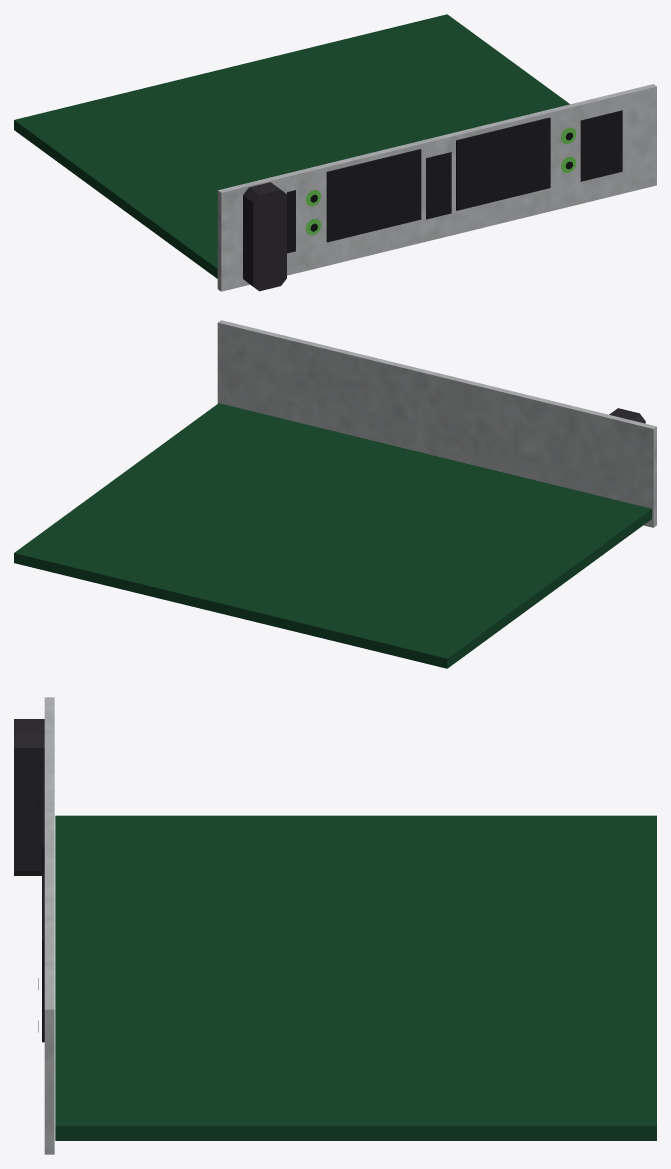
File: BCM957414-N-4140-C.far.glb
3 views of the same model, one above another, from view 1: azimuth 30°, elevation 25°; view 2: azimuth 150°, elevation 25°; view 3: azimuth 270°, elevation 25° (orthographic). The views are drawn at different scales.
Visible parts, largest first — view 1: Card_far; view 2: Card_far; view 3: Card_far.
Boxes of the visible parts, box(x1,y1,x2,y2) form: Card_far: box(14, 14, 656, 291); Card_far: box(14, 320, 656, 668); Card_far: box(14, 697, 656, 1154).
Size of the model in its own units: 0.0724 by 0.0157 by 0.063.
Materials: 3 (2 with a texture image).
